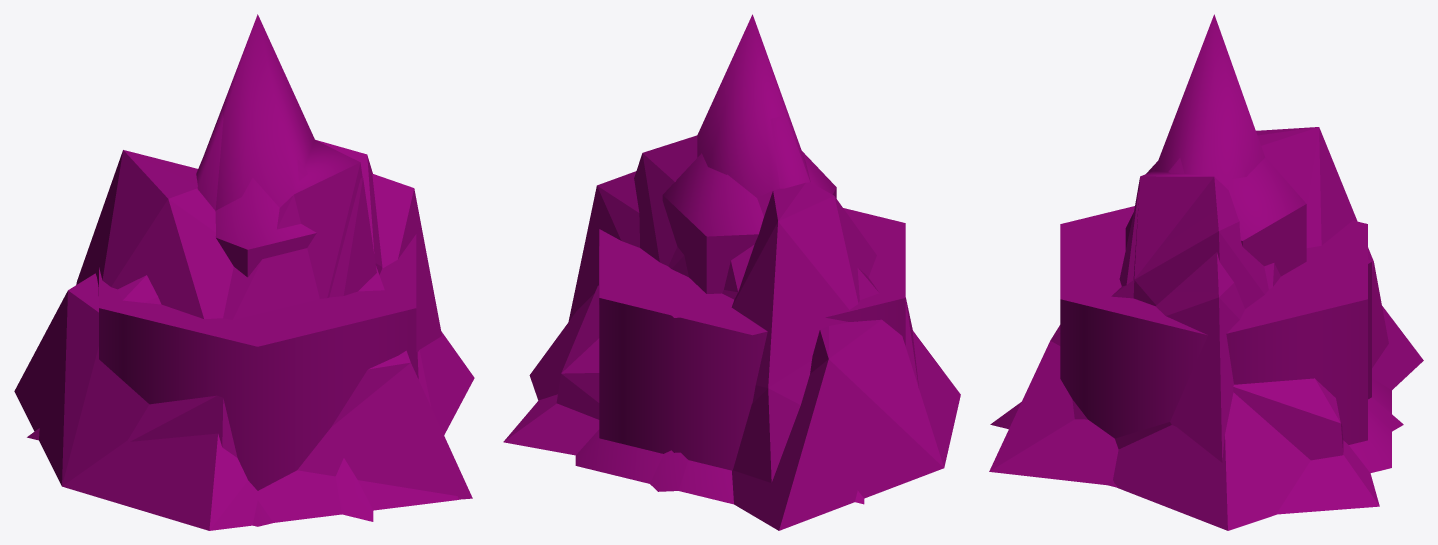
3 renders of one model, left to right at view 1: azimuth 30°, elevation 25°; view 2: azimuth 150°, elevation 25°; view 3: azimuth 270°, elevation 25°, orthographic. The views are drawn at different scales.
Visible parts, largest first — view 1: obj_11, obj_12, obj_09, obj_01, obj_04; view 2: obj_11, obj_12, obj_09, obj_01, obj_06, obj_10, obj_03; view 3: obj_11, obj_09, obj_12, obj_01, obj_06, obj_10, obj_03.
Boxes of the visible parts, box(x1,y1,x2,y2) form: obj_11: box(76, 14, 474, 499); obj_12: box(14, 111, 458, 530); obj_09: box(99, 234, 416, 490); obj_01: box(196, 159, 316, 277); obj_04: box(27, 428, 373, 521); obj_11: box(529, 14, 918, 482); obj_12: box(503, 115, 960, 530); obj_09: box(599, 208, 905, 470); obj_01: box(662, 151, 836, 293); obj_06: box(575, 429, 733, 504); obj_10: box(599, 247, 857, 452); obj_03: box(650, 450, 688, 491); obj_11: box(989, 14, 1388, 530); obj_09: box(1060, 206, 1367, 444); obj_12: box(1072, 191, 1423, 514); obj_01: box(1146, 157, 1306, 276); obj_06: box(1104, 378, 1391, 487); obj_10: box(1262, 259, 1371, 399); obj_03: box(1368, 397, 1403, 431).
Bounding box in the file's own units: 26.22 × 25.21 × 24.18.
